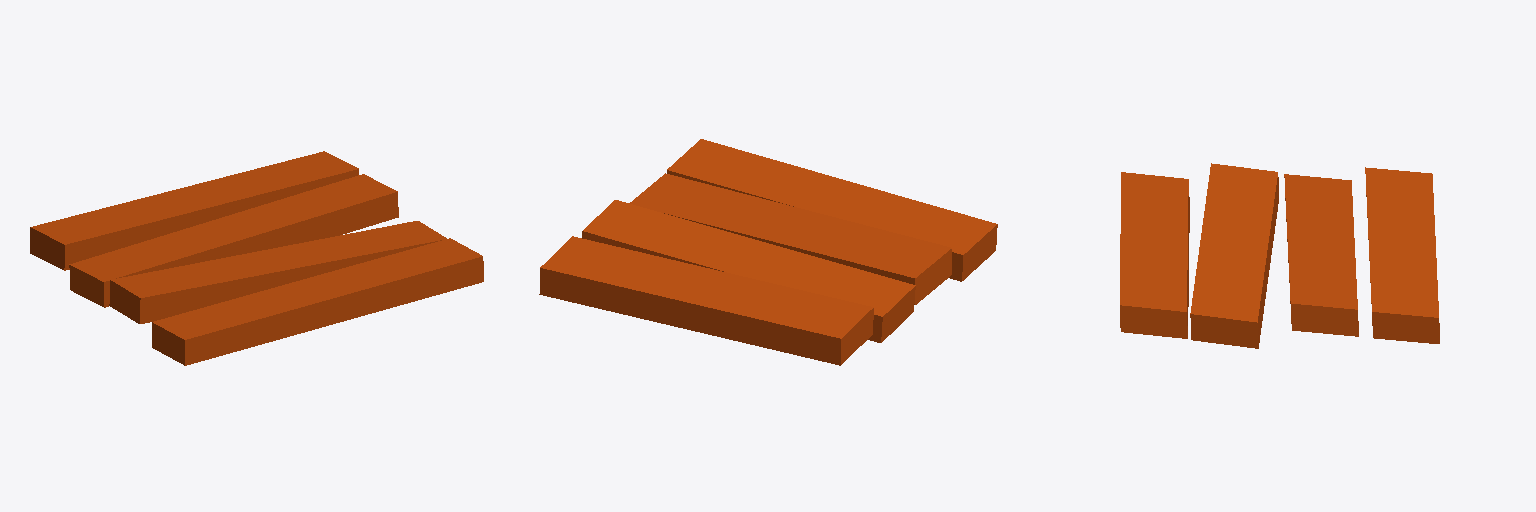
The model's file is raft.obj.
3 renders of one model, left to right at view 1: azimuth 30°, elevation 25°; view 2: azimuth 150°, elevation 25°; view 3: azimuth 270°, elevation 25°, orthographic.
Visible parts, largest first — view 1: Cube.014, Cube.002_Cube.017, Cube.003_Cube.018, Cube.001_Cube.016; view 2: Cube.003_Cube.018, Cube.002_Cube.017, Cube.001_Cube.016, Cube.014; view 3: Cube.001_Cube.016, Cube.003_Cube.018, Cube.014, Cube.002_Cube.017.
Part boxes in pixels (bbox=[...]): Cube.014: bbox=[152, 238, 483, 365]; Cube.002_Cube.017: bbox=[69, 174, 398, 307]; Cube.003_Cube.018: bbox=[30, 151, 358, 270]; Cube.001_Cube.016: bbox=[109, 221, 446, 323]; Cube.003_Cube.018: bbox=[539, 236, 873, 365]; Cube.002_Cube.017: bbox=[582, 200, 915, 342]; Cube.001_Cube.016: bbox=[629, 173, 951, 304]; Cube.014: bbox=[667, 139, 997, 281]; Cube.001_Cube.016: bbox=[1190, 163, 1278, 348]; Cube.003_Cube.018: bbox=[1365, 167, 1439, 343]; Cube.014: bbox=[1120, 172, 1189, 338]; Cube.002_Cube.017: bbox=[1284, 174, 1358, 336].
Size of the model in its own units: 1.96 by 0.3033 by 1.8.